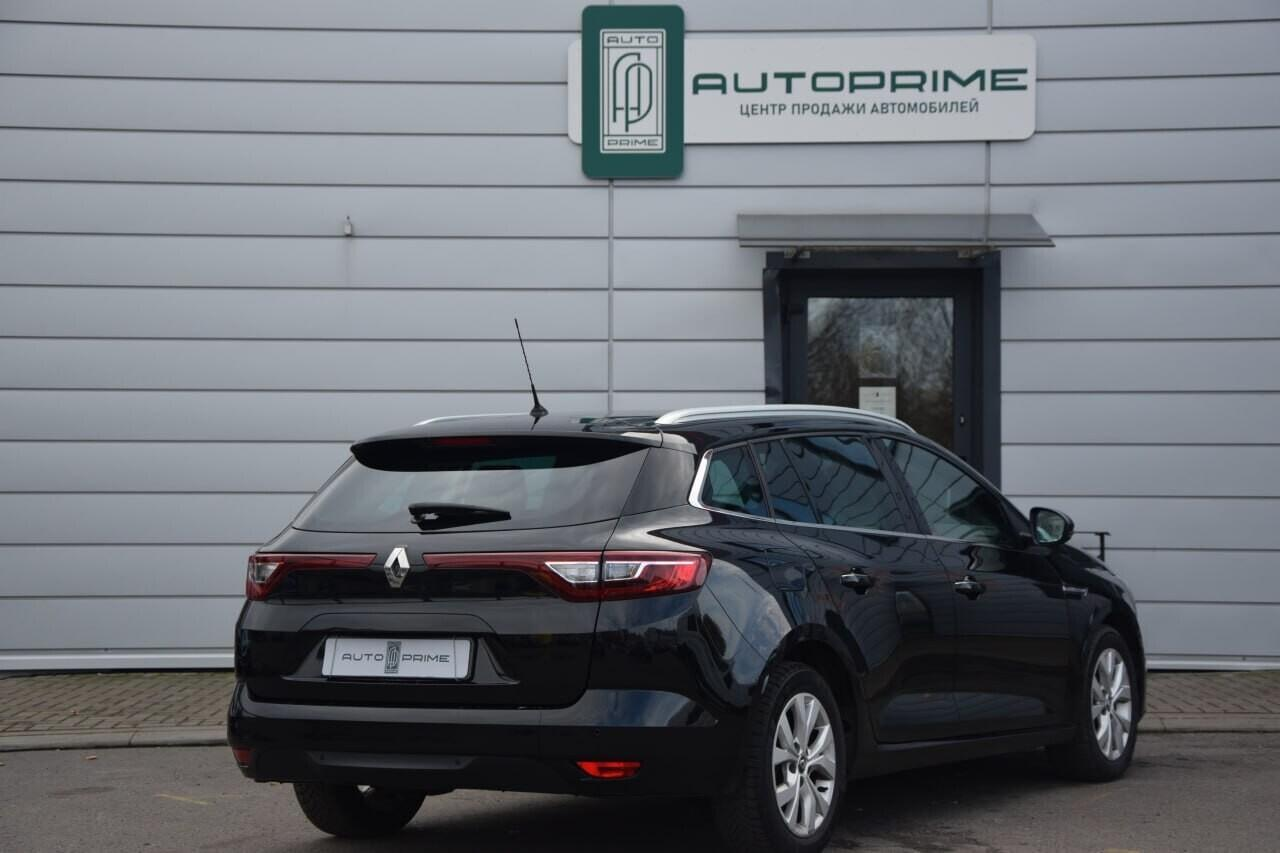Megane_2016-2020: (228, 402, 1154, 837)
